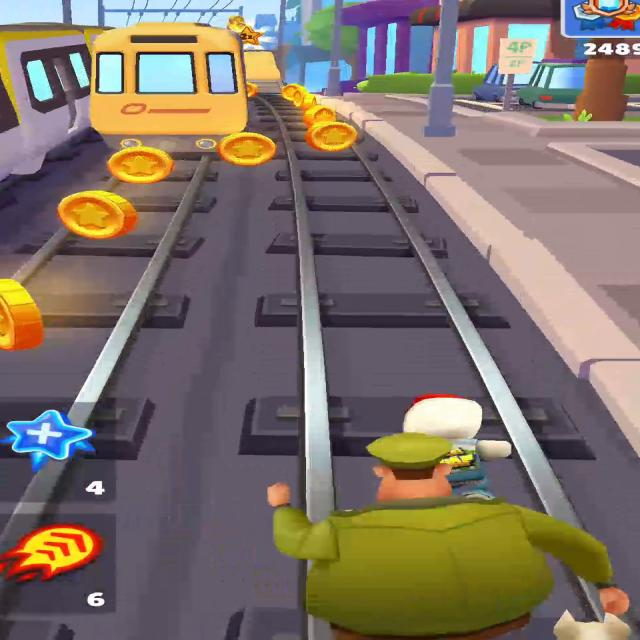climber: (245, 50, 283, 94)
police: (268, 430, 628, 640)
train: (91, 23, 246, 151), (0, 23, 103, 181)
